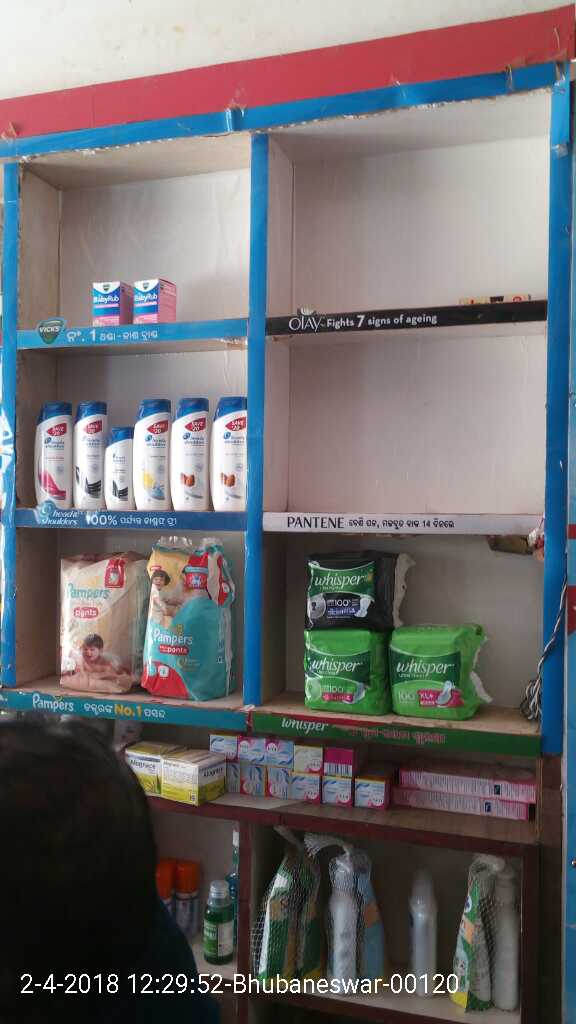vicks: (133, 279, 177, 322), (91, 282, 124, 324)
